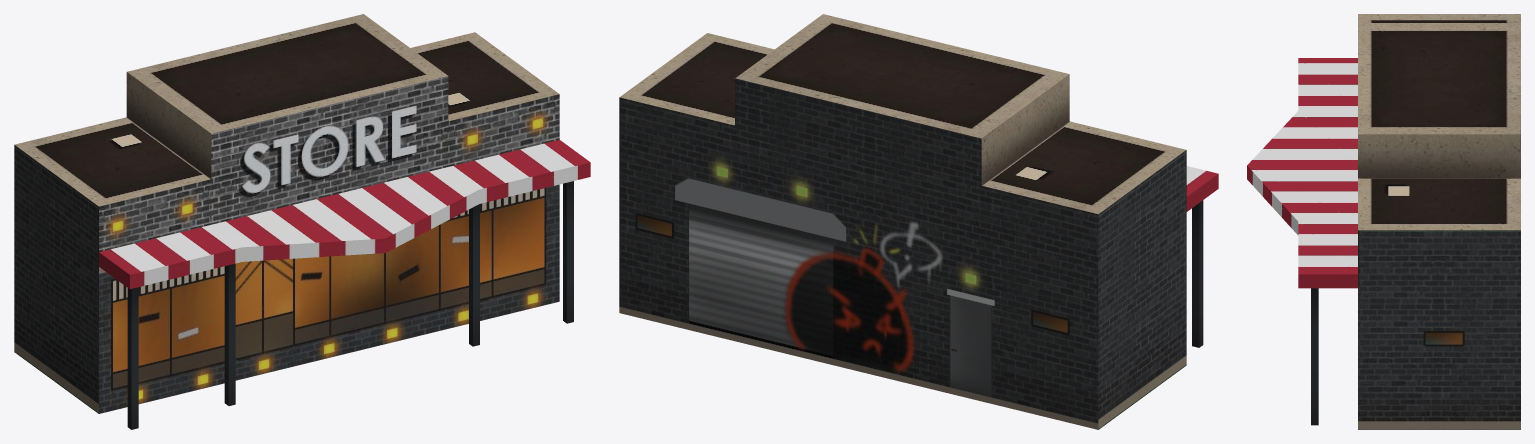
The model's file is Shop.FBX.
3 views of the same model, side by side, from view 1: azimuth 30°, elevation 25°; view 2: azimuth 150°, elevation 25°; view 3: azimuth 270°, elevation 25° (orthographic). The views are drawn at different scales.
Parts seen in each view (by area): view 1: Shop; view 2: Shop; view 3: Shop.
Boxes of the visible parts, x1=… form: Shop: x1=14, y1=14, x2=590, y2=429; Shop: x1=619, y1=14, x2=1218, y2=429; Shop: x1=1247, y1=14, x2=1520, y2=429.
Size of the model in its own units: 66.16 by 34.69 by 35.38.
1 material, 1 textured.
